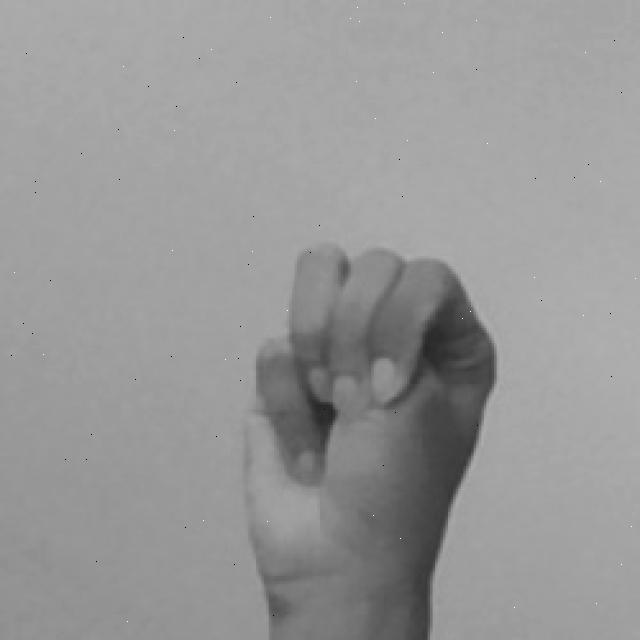M: (235, 238, 498, 640)
